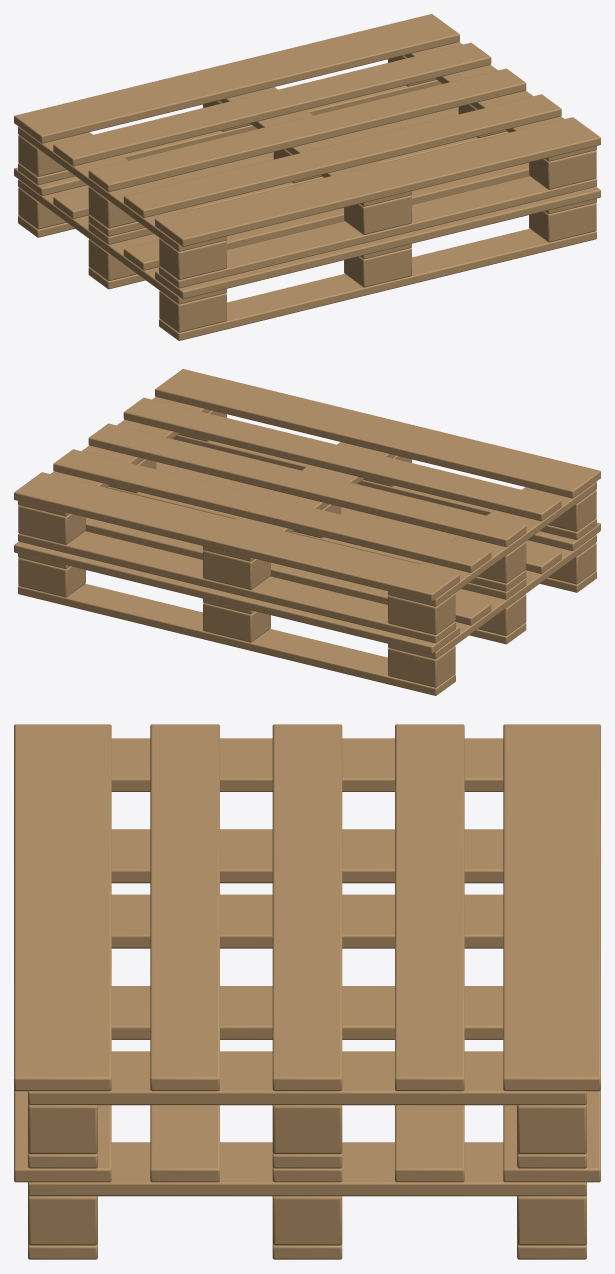
Rendered from pallet_stack.fbx.
3 views of the same model, one above another, from view 1: azimuth 30°, elevation 25°; view 2: azimuth 150°, elevation 25°; view 3: azimuth 270°, elevation 25° (orthographic). The views are drawn at different scales.
Visible parts, largest first — view 1: pallet_stack; view 2: pallet_stack; view 3: pallet_stack.
Boxes of the visible parts, left/top/right/bottom form: pallet_stack: left=14, top=14, right=600, bottom=340; pallet_stack: left=14, top=369, right=600, bottom=695; pallet_stack: left=14, top=724, right=600, bottom=1259.
Size of the model in its own units: 1.2 by 0.288 by 0.84.
